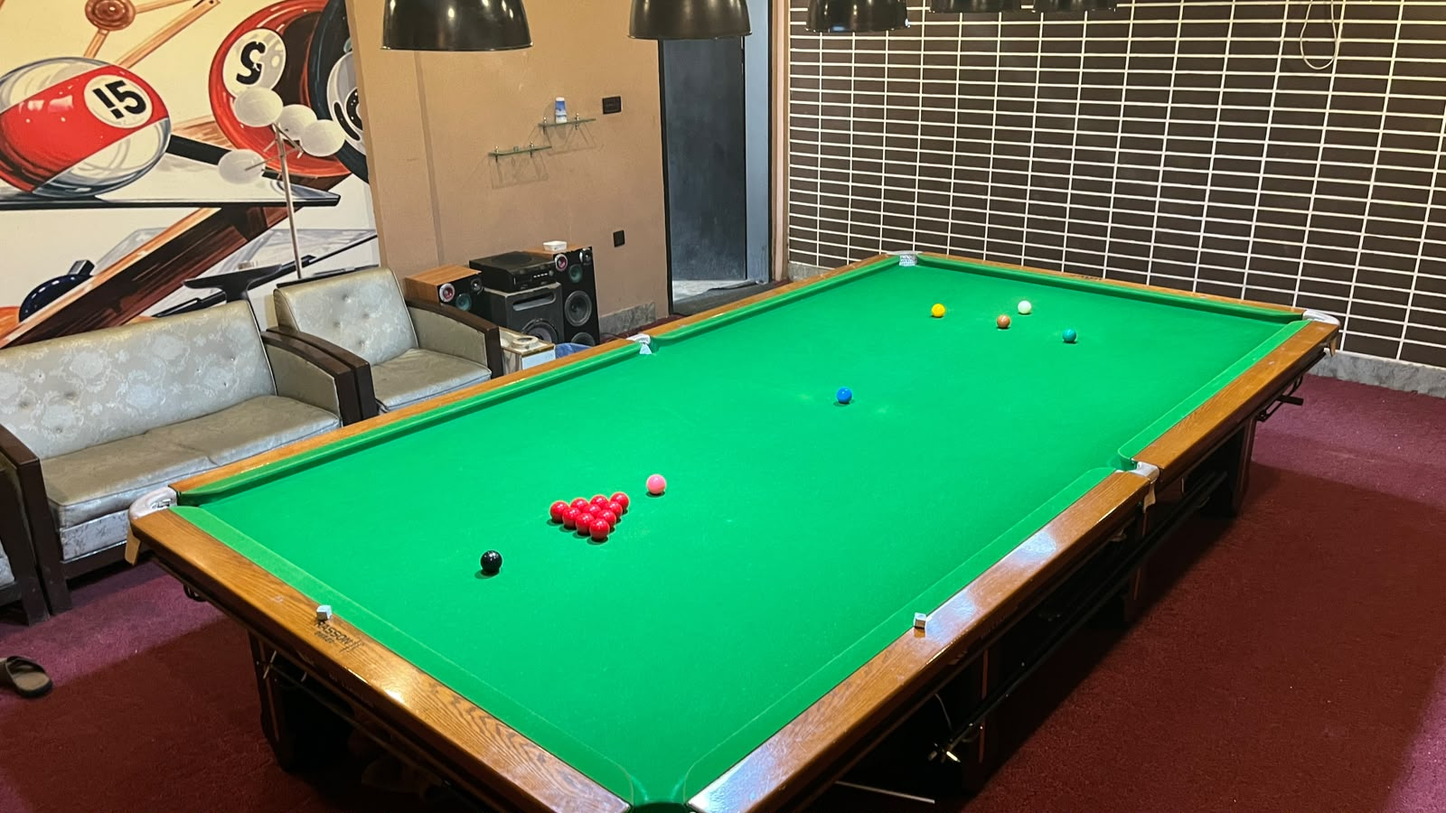Snooker: (539, 484, 647, 562)
